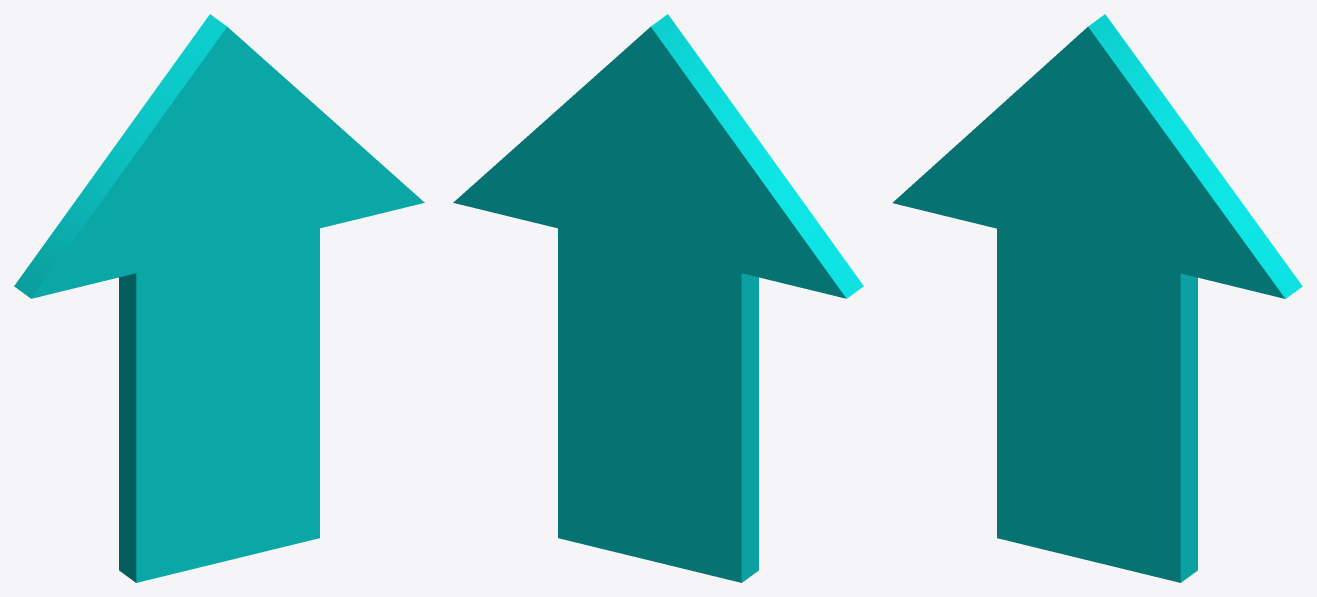
The model's file is arrow.fbx.
3 views of the same model, side by side, from view 1: azimuth 30°, elevation 25°; view 2: azimuth 150°, elevation 25°; view 3: azimuth 330°, elevation 25° (orthographic).
Parts seen in each view (by area): view 1: Arrow; view 2: Arrow; view 3: Arrow.
Boxes of the visible parts, box(x1,y1,x2,y2) form: Arrow: box(14, 14, 424, 582); Arrow: box(453, 14, 863, 582); Arrow: box(892, 14, 1302, 582).
Bounding box in the file's own units: 3.37 × 4.37 × 0.2553.
